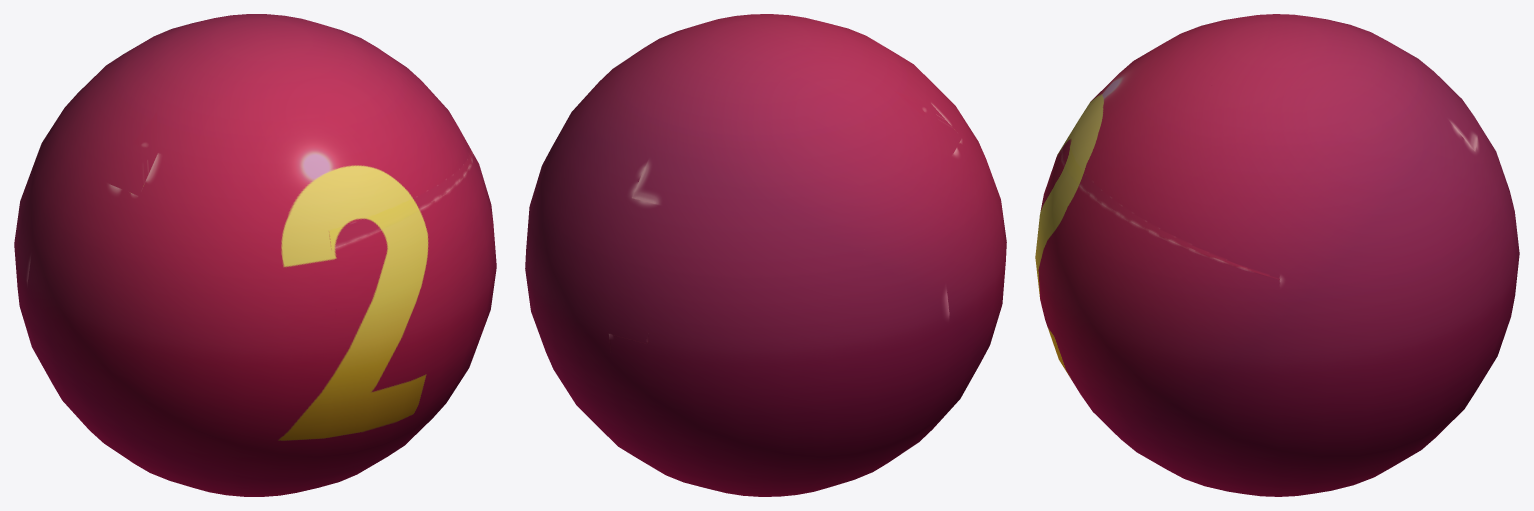
The model's file is Enemy 2.fbx.
3 views of the same model, side by side, from view 1: azimuth 30°, elevation 25°; view 2: azimuth 150°, elevation 25°; view 3: azimuth 270°, elevation 25° (orthographic).
Visible parts, largest first — view 1: Body 1.001; view 2: Body 1.001; view 3: Body 1.001.
Part boxes in pixels (bbox=[...]): Body 1.001: bbox=[14, 14, 496, 496]; Body 1.001: bbox=[525, 14, 1006, 496]; Body 1.001: bbox=[1035, 14, 1519, 496].
Bounding box in the file's own units: 475 × 475 × 475.
Materials: 1 (1 with a texture image).
